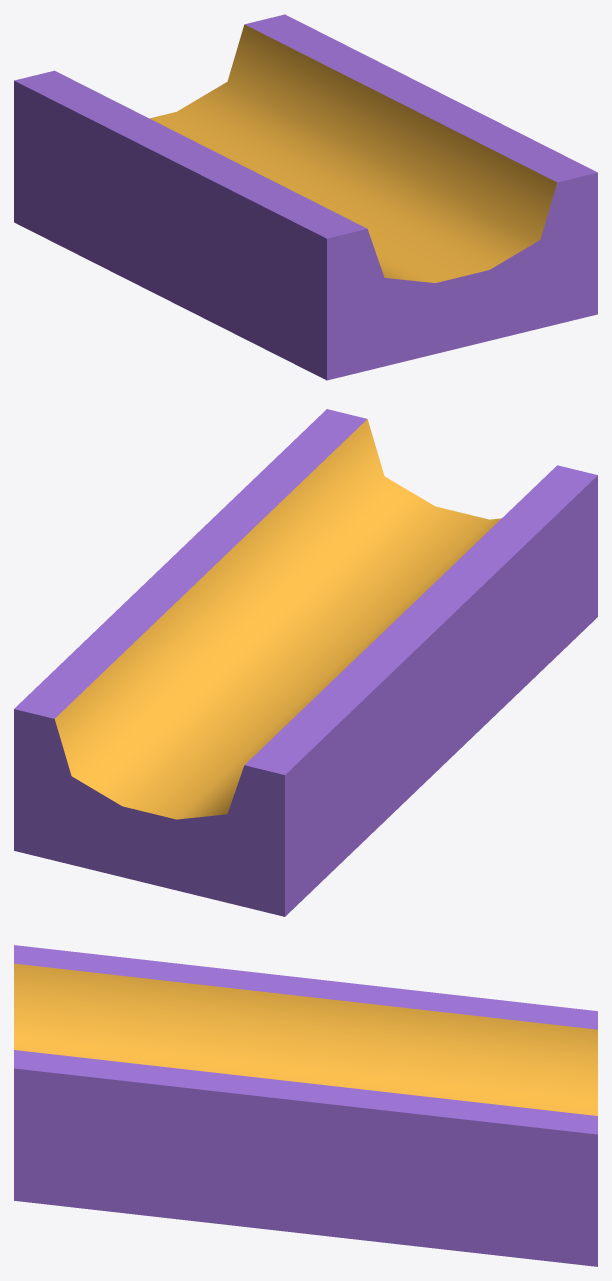
File: slant-long-a.glb
3 views of the same model, one above another, from view 1: azimuth 30°, elevation 25°; view 2: azimuth 150°, elevation 25°; view 3: azimuth 270°, elevation 25° (orthographic). The views are drawn at different scales.
Parts seen in each view (by area): view 1: slant-long-a; view 2: slant-long-a; view 3: slant-long-a.
Boxes of the visible parts, x1,y1,x2,y2 form: slant-long-a: (14, 14, 597, 380); slant-long-a: (14, 409, 597, 916); slant-long-a: (14, 945, 597, 1266).
Size of the model in its own units: 1 by 0.7501 by 2.
1 material, 1 textured.
